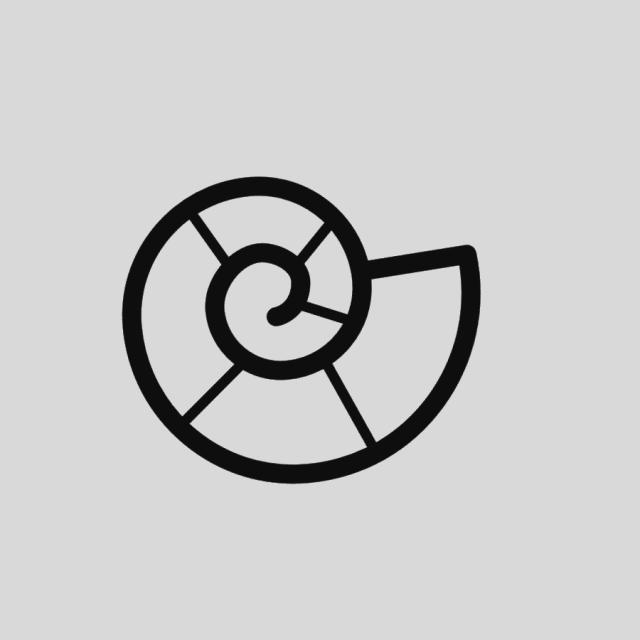fossil: (119, 171, 488, 493)
